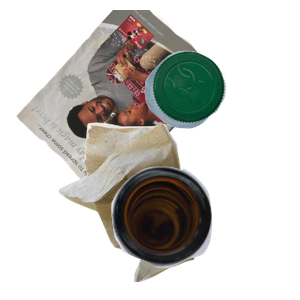glass: (109, 164, 300, 300)
paper: (14, 10, 229, 190)
plastic: (142, 48, 300, 169)
trash: (56, 120, 247, 300)
